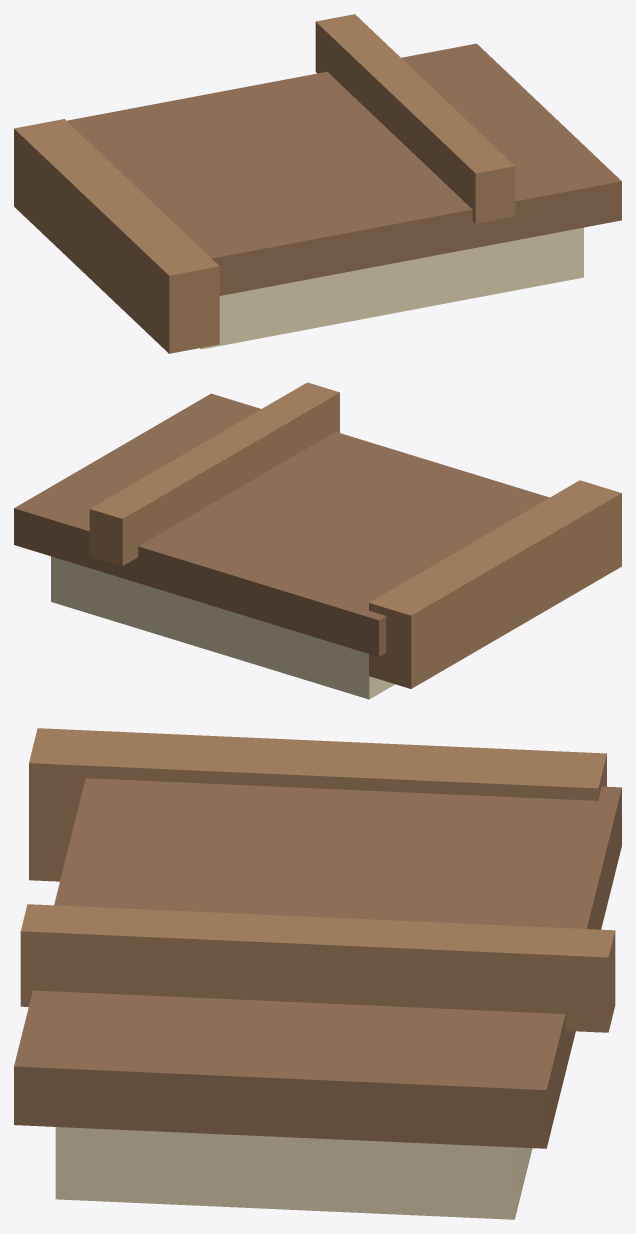
Rendered from crafting_book_progression.glb.
The picture shows the model from 3 angles, top to bottom: view 1: azimuth 30°, elevation 25°; view 2: azimuth 150°, elevation 25°; view 3: azimuth 270°, elevation 25°; orthographic projection. The views are drawn at different scales.
Parts seen in each view (by area): view 1: crafting_book_progression; view 2: crafting_book_progression; view 3: crafting_book_progression.
Boxes of the visible parts, <box> form: crafting_book_progression: <box>14,14,621,353</box>; crafting_book_progression: <box>14,382,621,699</box>; crafting_book_progression: <box>14,728,621,1219</box>.
Bounding box in the file's own units: 0.4477 × 0.125 × 0.3292.
